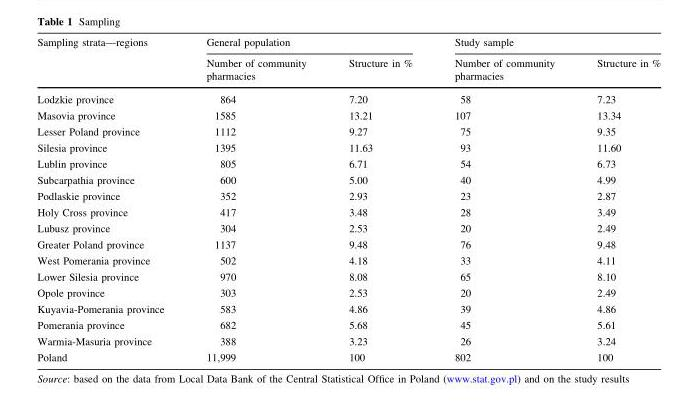table: (36, 37, 660, 362)
table column: (36, 37, 184, 362), (432, 37, 575, 362), (184, 37, 326, 362), (326, 37, 432, 362), (575, 37, 660, 362)
table column header: (36, 37, 660, 87)
table row: (36, 52, 660, 87), (36, 87, 660, 107), (36, 155, 660, 172), (36, 284, 660, 301), (36, 107, 660, 123), (36, 123, 660, 139), (36, 139, 660, 155), (36, 172, 660, 188), (36, 188, 660, 204), (36, 204, 660, 220), (36, 220, 660, 236), (36, 236, 660, 252), (36, 252, 660, 268), (36, 268, 660, 284), (36, 301, 660, 317), (36, 317, 660, 333), (36, 333, 660, 349), (36, 37, 660, 52), (36, 349, 660, 362)
table spanning cell: (36, 37, 184, 87), (184, 37, 432, 52), (432, 37, 660, 52)
